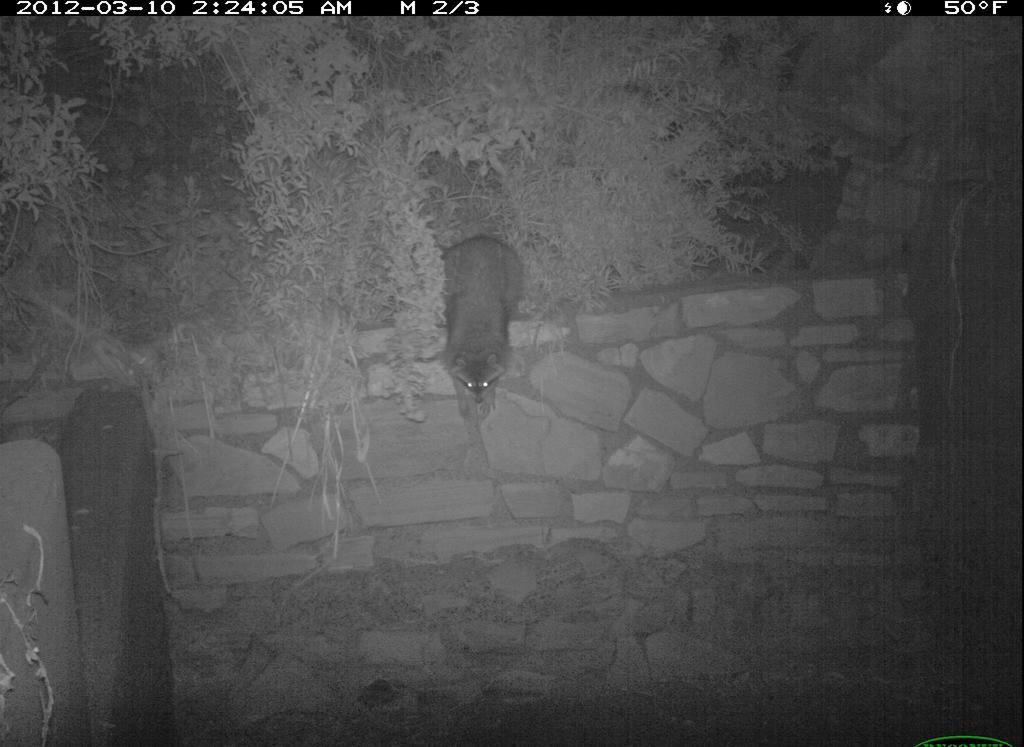raccoon: (433, 235, 524, 428)
